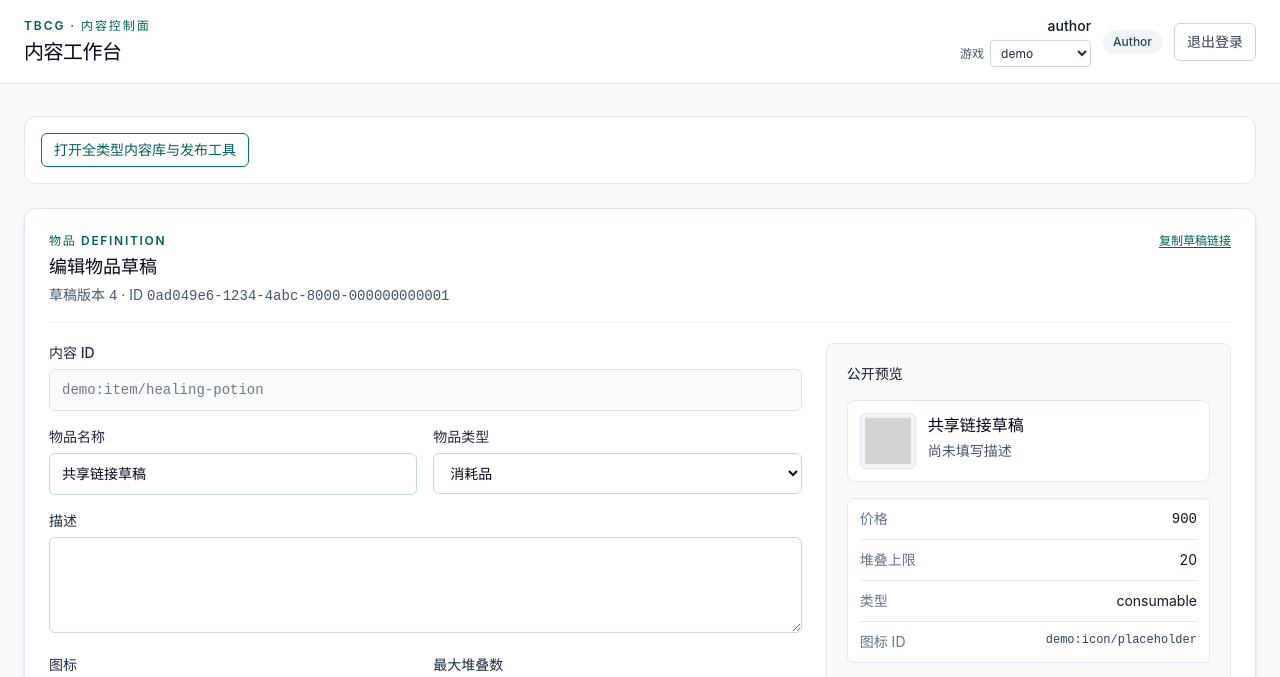
App › restores a shared-link draft after leaving and returning to its Game
This screenshot has width=1280, height=677.
Expected: the field labelled "物品名称" holds "共享链接草稿", [49,453,417,495]
Select "other-game" in the dropdown labelled "游戏" at point(1041, 54), box [990,40,1091,67]
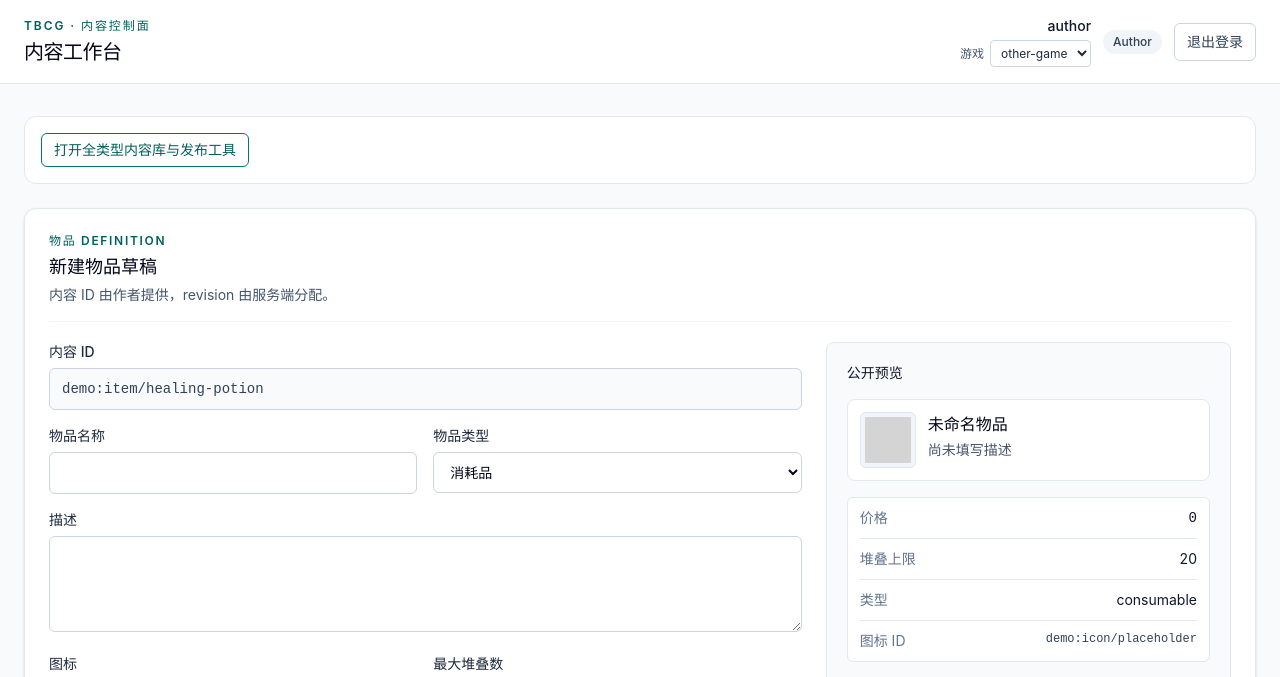
Result: the field labelled "物品名称" is empty at [49,452,417,494]
Select "demo" in the dropdown labelled "游戏" at point(1041, 54), box [990,40,1091,67]
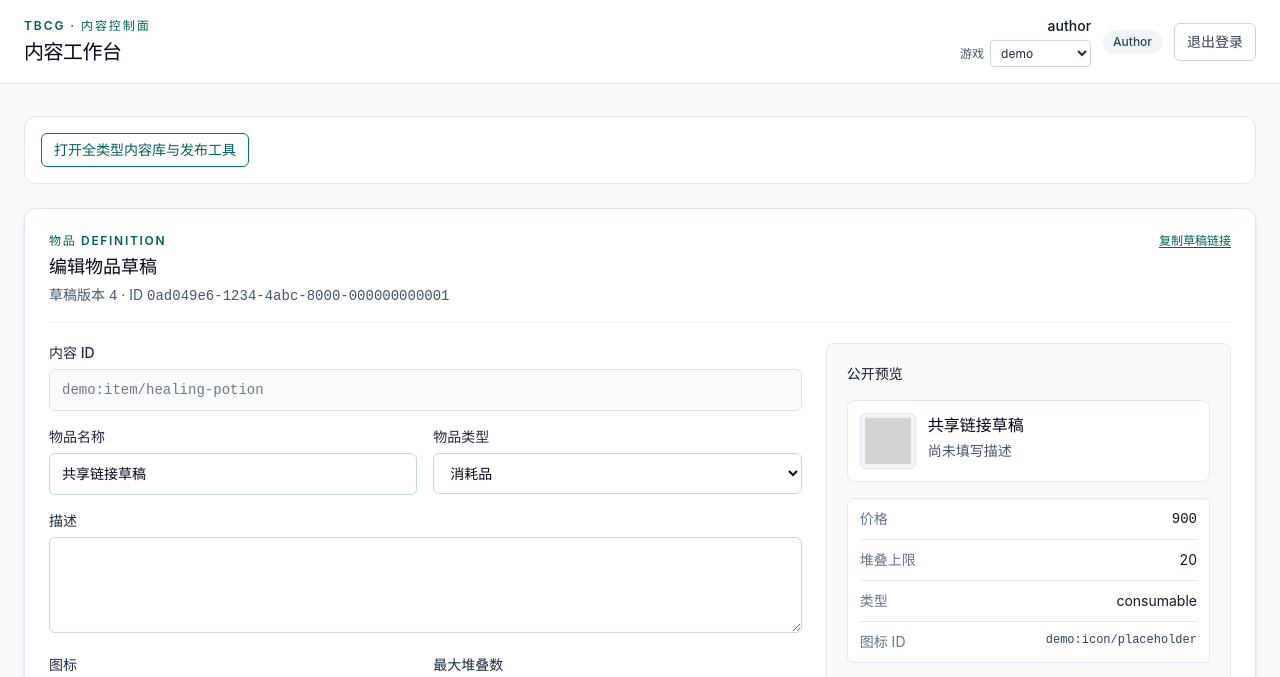
Result: the field labelled "物品名称" holds "共享链接草稿" at [49,453,417,495]
